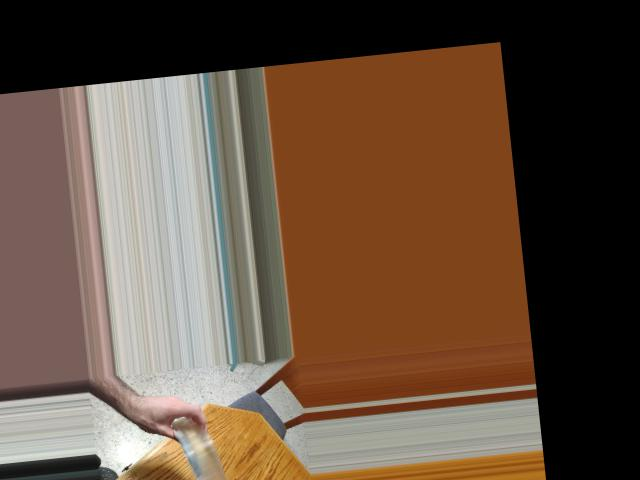cheese: (179, 404, 224, 480)
